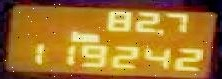-: (155, 26, 164, 36)
1: (30, 40, 44, 65), (62, 43, 73, 67)
2: (173, 46, 202, 72), (108, 43, 137, 68), (130, 9, 157, 32)
4: (142, 45, 168, 69)
7: (162, 10, 191, 33)
8: (104, 9, 128, 32)
9: (77, 43, 104, 65)
X: (80, 32, 100, 41), (71, 29, 80, 40)
